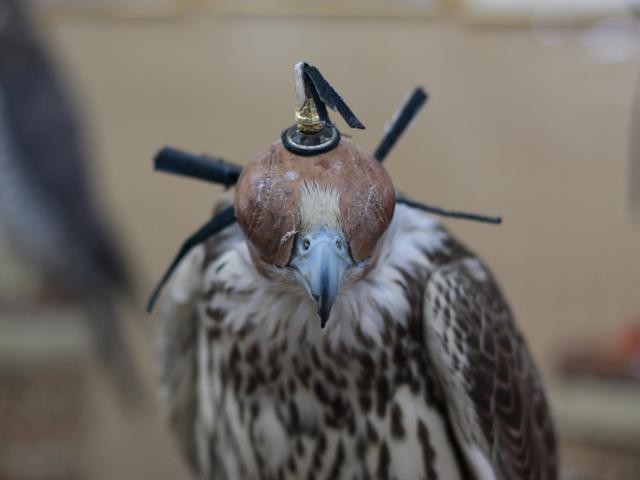Bird: (147, 61, 558, 479)
